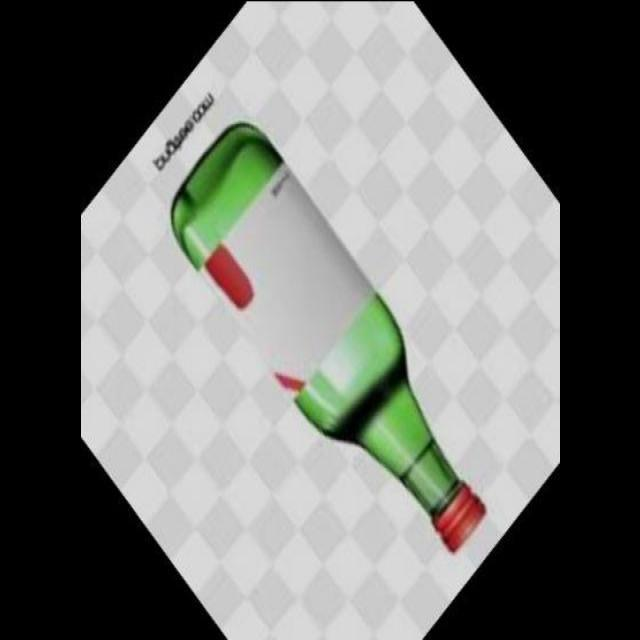Glass: (160, 110, 490, 562)
